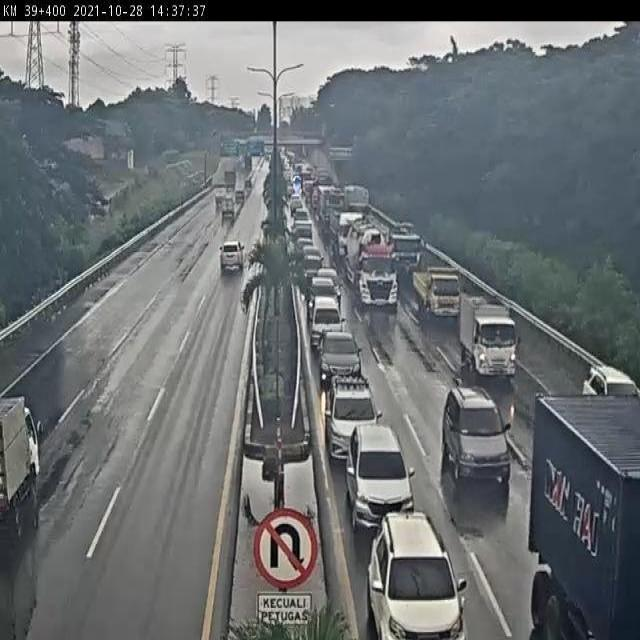Car: (369, 510, 467, 640), (440, 384, 513, 504), (344, 423, 414, 533), (328, 379, 383, 464), (318, 327, 363, 388), (309, 295, 345, 353), (582, 363, 638, 399), (219, 240, 245, 274)
Truck: (530, 394, 640, 638), (458, 293, 520, 377), (0, 394, 43, 514), (348, 219, 401, 313), (412, 266, 461, 318)
